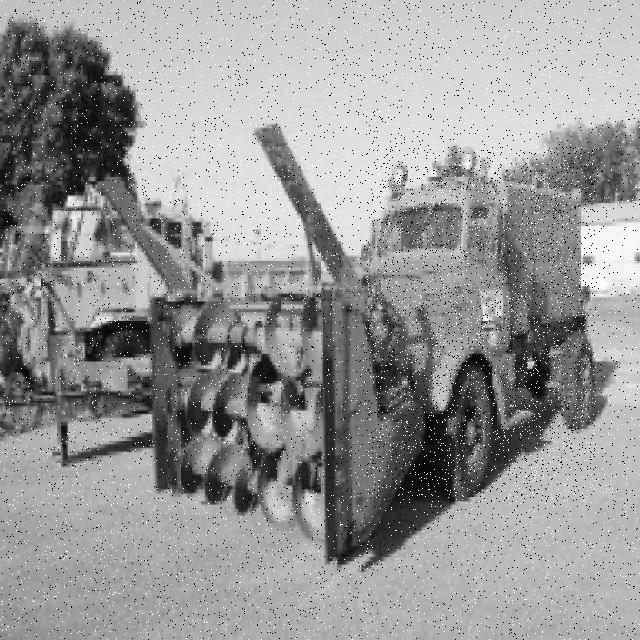Truck- 2-Axle: (366, 147, 596, 502)
